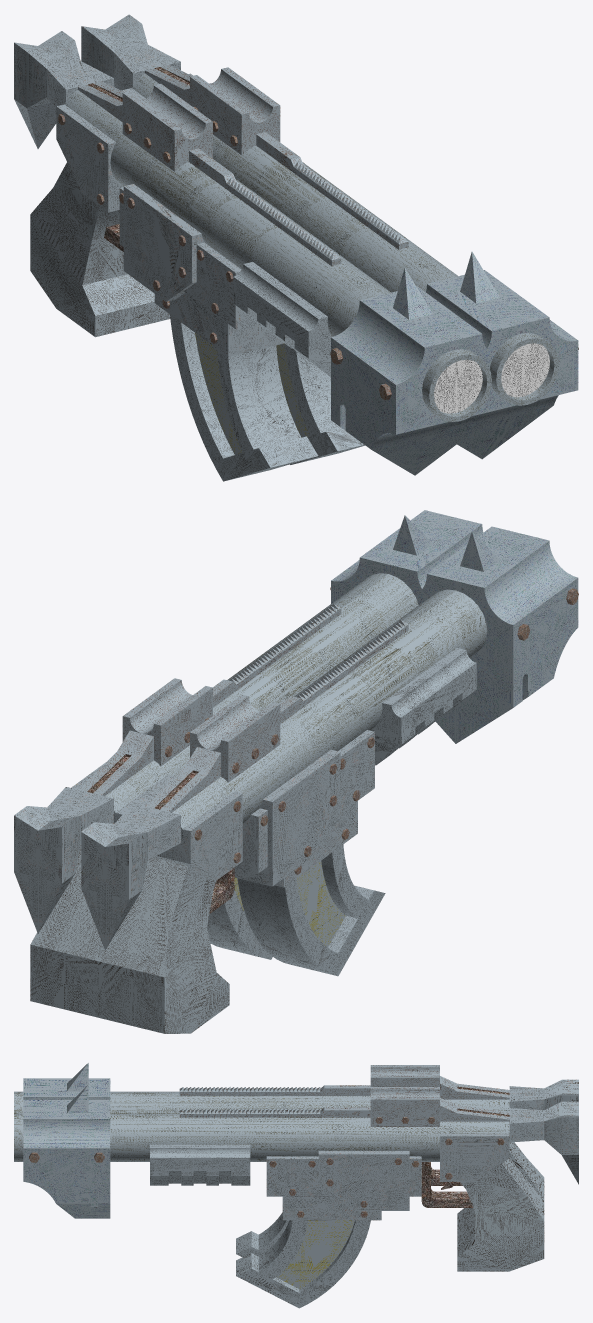
File: Trukk Big Gun 1.fbx
The picture shows the model from 3 angles, top to bottom: view 1: azimuth 30°, elevation 25°; view 2: azimuth 150°, elevation 25°; view 3: azimuth 270°, elevation 25°; orthographic projection. The views are drawn at different scales.
Visible parts, largest first — view 1: Big_Gun_1_Shoota4, Big_Gun_1_Shoota2, Big_Gun_1_Shoota3, Big_Gun_1_Shoota1; view 2: Big_Gun_1_Shoota4, Big_Gun_1_Shoota2, Big_Gun_1_Shoota3, Big_Gun_1_Shoota1; view 3: Big_Gun_1_Shoota1, Big_Gun_1_Shoota3, Big_Gun_1_Shoota2, Big_Gun_1_Shoota4.
Boxes of the visible parts, <box> form: Big_Gun_1_Shoota4: <box>14,42,460,481</box>; Big_Gun_1_Shoota2: <box>81,26,527,464</box>; Big_Gun_1_Shoota3: <box>38,31,508,475</box>; Big_Gun_1_Shoota1: <box>105,14,578,458</box>; Big_Gun_1_Shoota4: <box>105,532,578,1033</box>; Big_Gun_1_Shoota2: <box>38,515,483,1017</box>; Big_Gun_1_Shoota3: <box>81,526,520,1025</box>; Big_Gun_1_Shoota1: <box>14,510,452,1009</box>; Big_Gun_1_Shoota1: <box>14,1084,578,1308</box>; Big_Gun_1_Shoota3: <box>14,1063,578,1257</box>; Big_Gun_1_Shoota2: <box>14,1085,578,1267</box>; Big_Gun_1_Shoota4: <box>14,1064,578,1245</box>.
Bounding box in the file's own units: 4 × 6.45 × 15.26.
